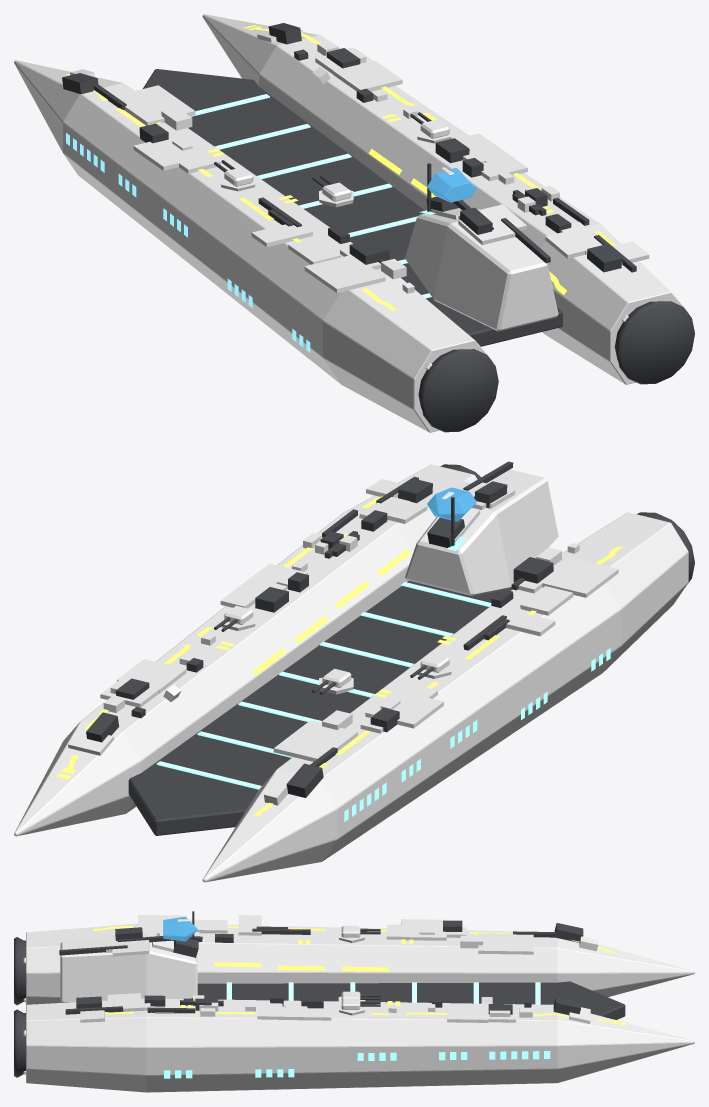
File: piligrim.glb
The picture shows the model from 3 angles, top to bottom: view 1: azimuth 30°, elevation 25°; view 2: azimuth 150°, elevation 25°; view 3: azimuth 270°, elevation 25°; orthographic projection. The views are drawn at different scales.
Parts seen in each view (by area): view 1: Корпус.001, Корпус, Лётная_палуба, Накладные_плиты, Мостик, Механика, Кожух_дюзы, Кожух_дюзы.001, Разметка.007, Кабина, Решётки; view 2: Корпус.001, Корпус, Лётная_палуба, Накладные_плиты, Мостик, Механика, Разметка.007, Решётки, Кабина; view 3: Корпус, Корпус.001, Накладные_плиты, Лётная_палуба, Мостик, Механика, Разметка.007, Решётки, Кожух_дюзы.001, Кожух_дюзы, Кабина.
Boxes of the visible parts, bbox=[...] form: Корпус.001: bbox=[14, 60, 492, 432]; Корпус: bbox=[202, 14, 688, 384]; Лётная_палуба: bbox=[143, 69, 562, 346]; Накладные_плиты: bbox=[70, 30, 649, 293]; Мостик: bbox=[405, 207, 558, 331]; Механика: bbox=[62, 23, 636, 272]; Кожух_дюзы: bbox=[614, 301, 694, 384]; Кожух_дюзы.001: bbox=[418, 349, 498, 432]; Разметка.007: bbox=[66, 25, 615, 310]; Кабина: bbox=[427, 168, 476, 202]; Решётки: bbox=[66, 133, 435, 352]; Корпус.001: bbox=[202, 512, 688, 882]; Корпус: bbox=[14, 464, 477, 836]; Лётная_палуба: bbox=[128, 581, 511, 835]; Накладные_плиты: bbox=[68, 479, 618, 805]; Мостик: bbox=[405, 469, 558, 596]; Механика: bbox=[86, 461, 553, 797]; Разметка.007: bbox=[56, 496, 622, 816]; Решётки: bbox=[344, 536, 610, 821]; Кабина: bbox=[427, 487, 476, 521]; Корпус: bbox=[26, 998, 694, 1092]; Корпус.001: bbox=[26, 923, 694, 1004]; Накладные_плиты: bbox=[80, 915, 598, 1023]; Лётная_палуба: bbox=[197, 981, 625, 1019]; Мостик: bbox=[60, 934, 197, 1002]; Механика: bbox=[59, 911, 583, 1014]; Разметка.007: bbox=[93, 925, 625, 1026]; Решётки: bbox=[164, 949, 550, 1078]; Кожух_дюзы.001: bbox=[14, 937, 25, 1005]; Кожух_дюзы: bbox=[14, 1009, 25, 1077]; Кабина: bbox=[163, 916, 197, 941].
Bounding box in the file's own units: 0.7654 × 0.4133 × 1.99.
